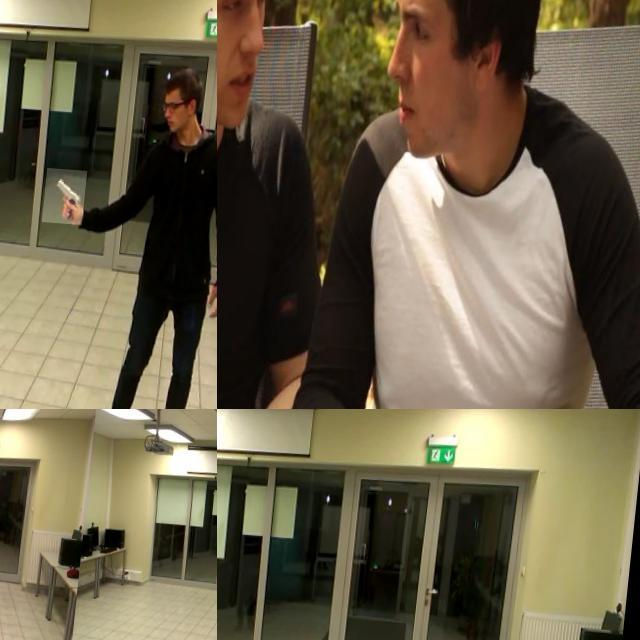-: (217, 328, 257, 409)
gun-knife-thesis - v11 Yolov5 augmented: (51, 164, 95, 220), (217, 549, 235, 586), (0, 529, 9, 548)
